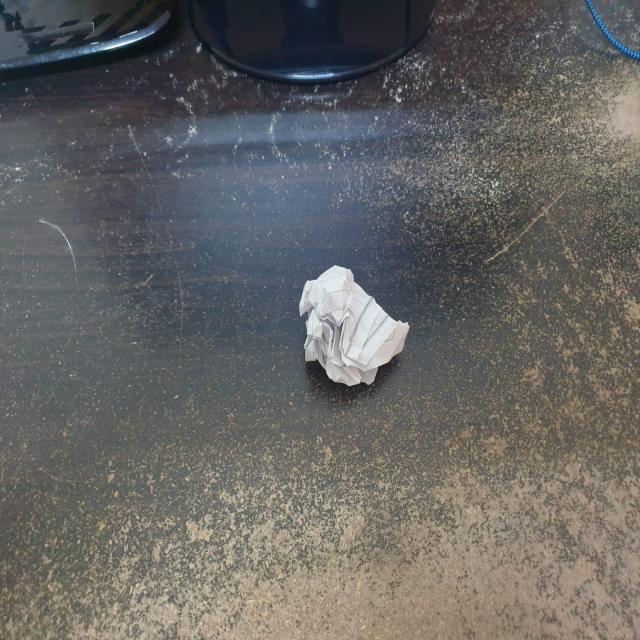cardboard paper: (298, 264, 407, 384)
